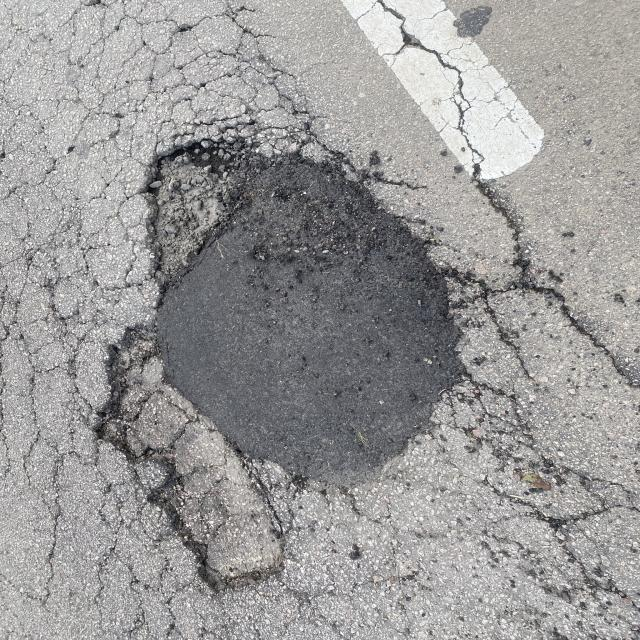Pothole: (80, 89, 512, 617)
